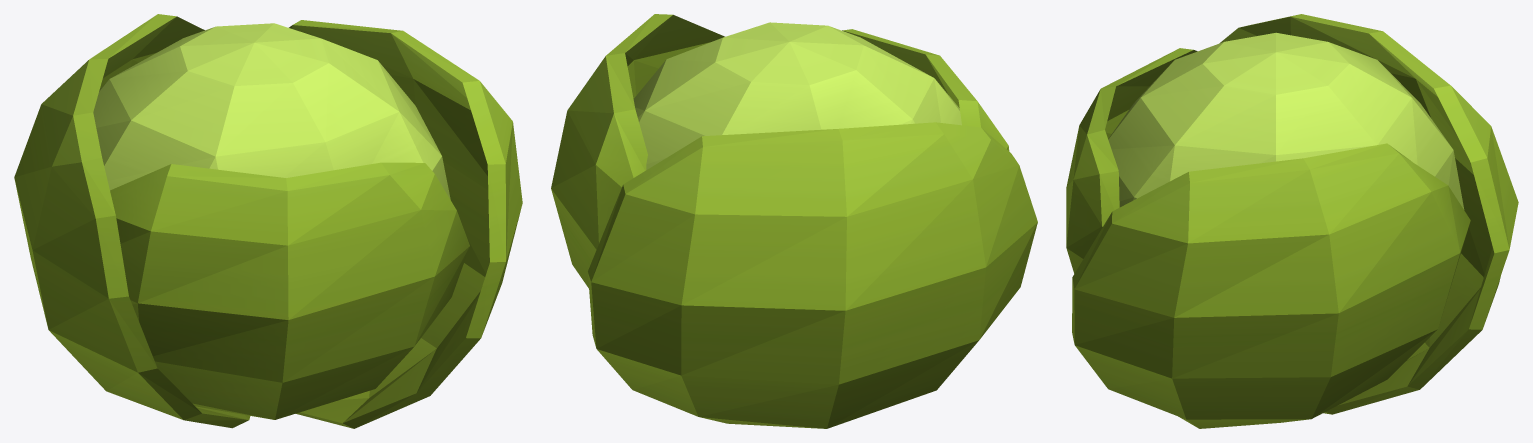
Rendered from crop_cabbage_stage3.glb.
3 views of the same model, side by side, from view 1: azimuth 30°, elevation 25°; view 2: azimuth 150°, elevation 25°; view 3: azimuth 270°, elevation 25° (orthographic). The views are drawn at different scales.
Parts seen in each view (by area): view 1: crop_cabbage_stage3; view 2: crop_cabbage_stage3; view 3: crop_cabbage_stage3.
Part boxes in pixels (x1,y1,x2,y2): crop_cabbage_stage3: (14, 14, 522, 428); crop_cabbage_stage3: (551, 14, 1037, 428); crop_cabbage_stage3: (1066, 14, 1518, 428).
Size of the model in its own units: 0.3914 by 0.32 by 0.3788.
1 material, 1 textured.
